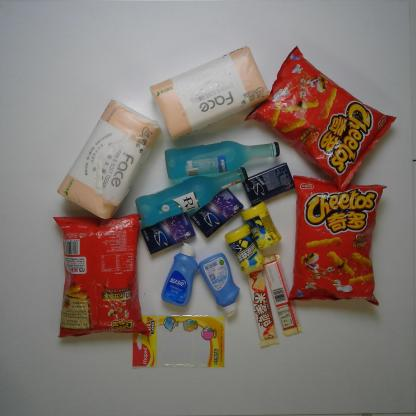Alcohol: (130, 166, 249, 228), (164, 140, 281, 180)
Chocolate: (262, 252, 303, 338), (244, 270, 281, 348)
Gum: (189, 187, 244, 239), (242, 162, 295, 207), (140, 213, 196, 255), (240, 202, 282, 250), (224, 224, 264, 274)
Personal Hygiene: (199, 252, 240, 318), (161, 242, 199, 308)
Puffed Food: (243, 44, 397, 193), (287, 174, 388, 307), (52, 213, 151, 339)
Stationery: (132, 314, 226, 368)
Tissue: (57, 99, 163, 220), (149, 46, 271, 142)
